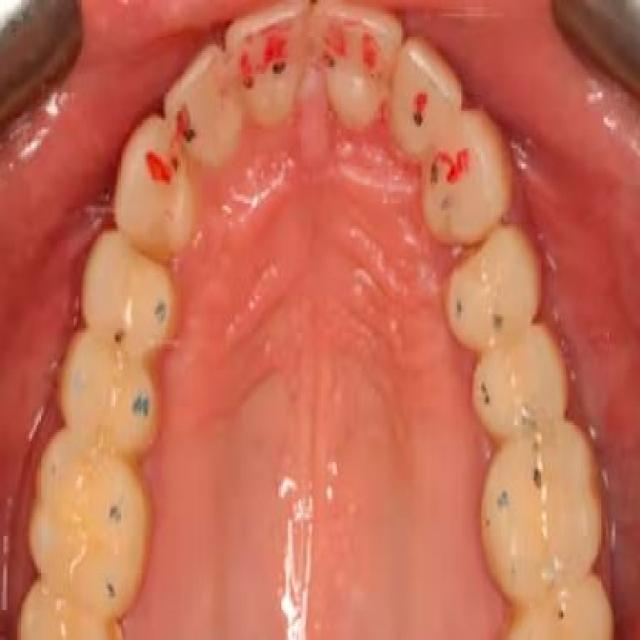1st Molar: (27, 424, 149, 622), (485, 417, 598, 598)
1st Premolar: (82, 231, 180, 364), (445, 224, 542, 356)
2nd Molar: (508, 575, 615, 640), (18, 581, 115, 640)
2nd Premolar: (58, 334, 158, 457), (472, 327, 569, 439)
Canine: (419, 109, 515, 250), (114, 113, 200, 270)
Central Incisor: (314, 2, 403, 136), (225, 2, 315, 129)
Lateral Incisor: (388, 32, 465, 165), (162, 44, 245, 166)
